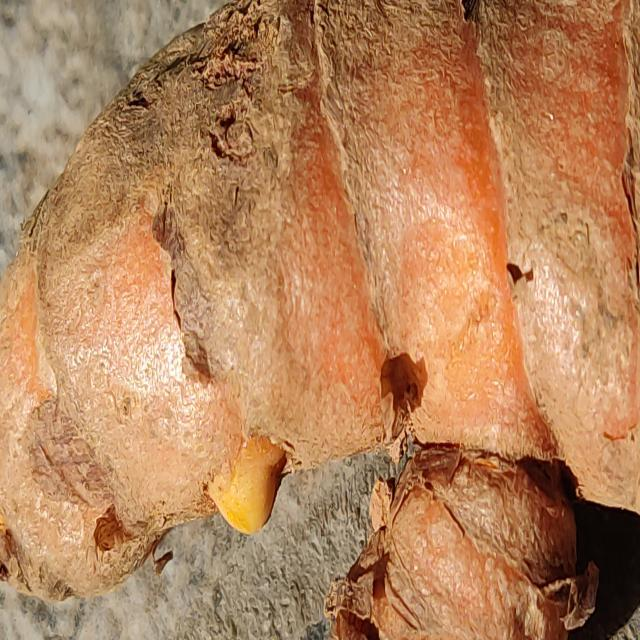ginger: (5, 22, 640, 598)
